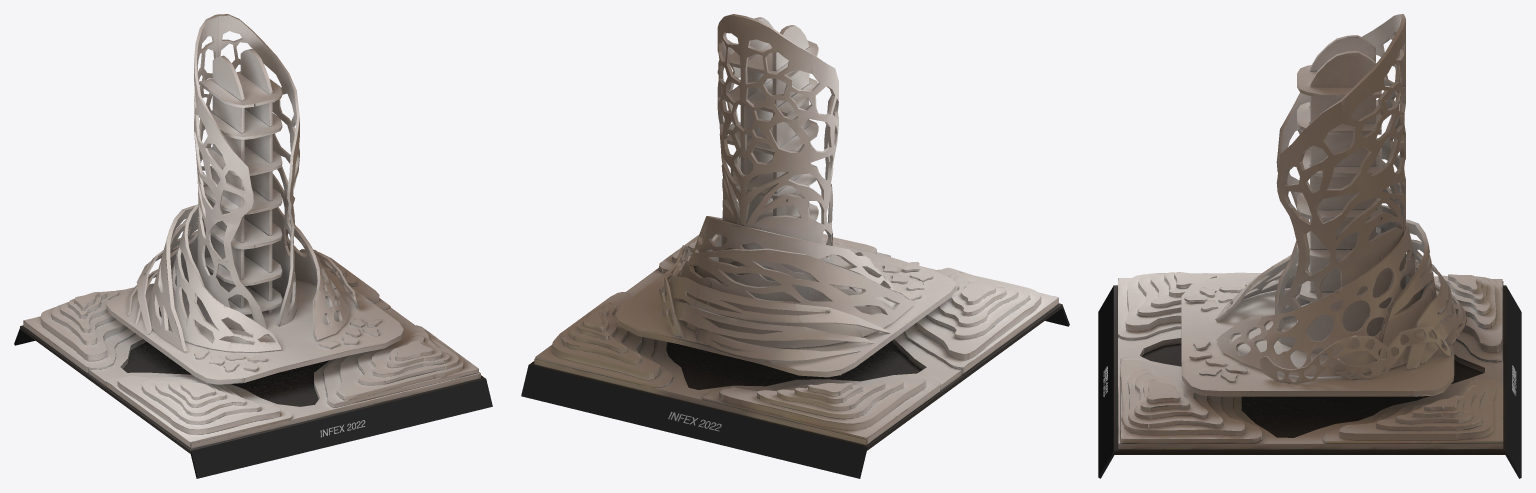
3 renders of one model, left to right at view 1: azimuth 30°, elevation 25°; view 2: azimuth 150°, elevation 25°; view 3: azimuth 270°, elevation 25°, orthographic. The views are drawn at different scales.
Visible parts, largest first — view 1: Circle.015, Cube.005, Plane.016; view 2: Circle.015, Cube.002, Plane.016; view 3: Circle.015, Plane.016, Cube.005, Cube.002.
Boxes of the visible parts, bbox=[...] form: Circle.015: bbox=[23, 14, 480, 448]; Cube.005: bbox=[190, 379, 492, 478]; Plane.016: bbox=[20, 325, 485, 453]; Circle.015: bbox=[534, 14, 1058, 445]; Cube.002: bbox=[521, 365, 866, 478]; Plane.016: bbox=[529, 303, 1062, 450]; Circle.015: bbox=[1118, 14, 1503, 449]; Plane.016: bbox=[1113, 285, 1506, 454]; Cube.005: bbox=[1098, 286, 1114, 478]; Cube.002: bbox=[1504, 286, 1521, 478].
Bounding box in the file's own units: 5.94 × 6.33 × 6.4.
4 materials, 2 textured.
